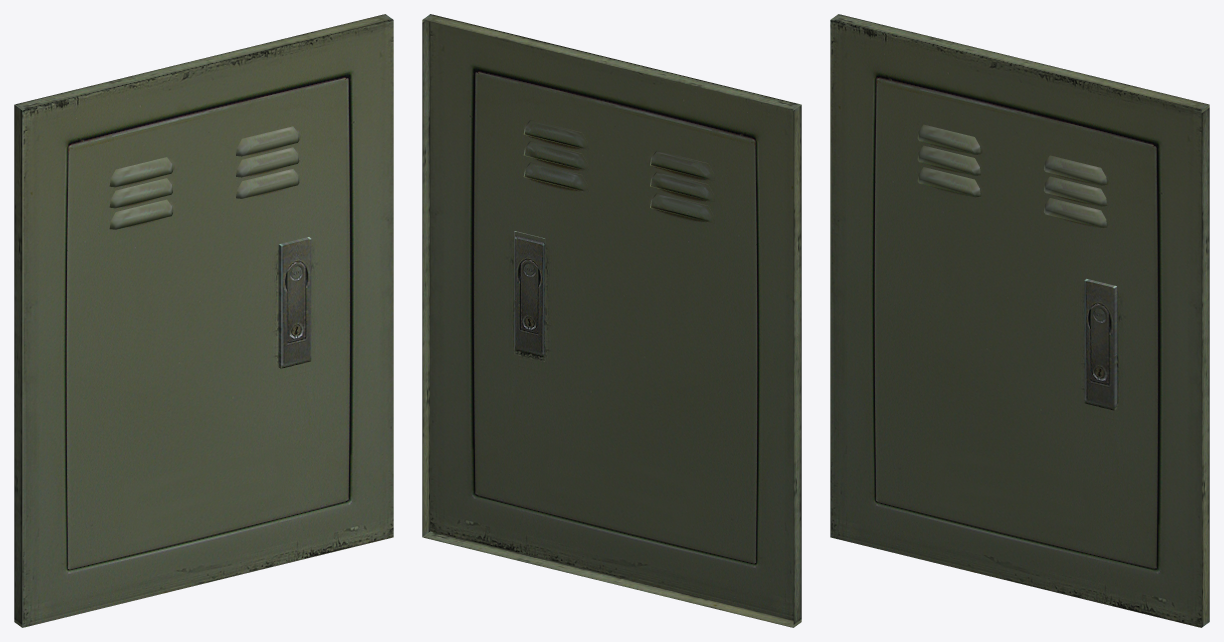
File: fuse_box-1_closed.FBX
3 renders of one model, left to right at view 1: azimuth 30°, elevation 25°; view 2: azimuth 150°, elevation 25°; view 3: azimuth 330°, elevation 25°, orthographic.
Parts seen in each view (by area): view 1: Box01; view 2: Box01; view 3: Box01.
Part boxes in pixels (bbox=[...]): Box01: bbox=[14, 14, 393, 627]; Box01: bbox=[422, 14, 801, 627]; Box01: bbox=[830, 14, 1209, 627].
Size of the model in its own units: 17.8 by 23.72 by 0.8637.
